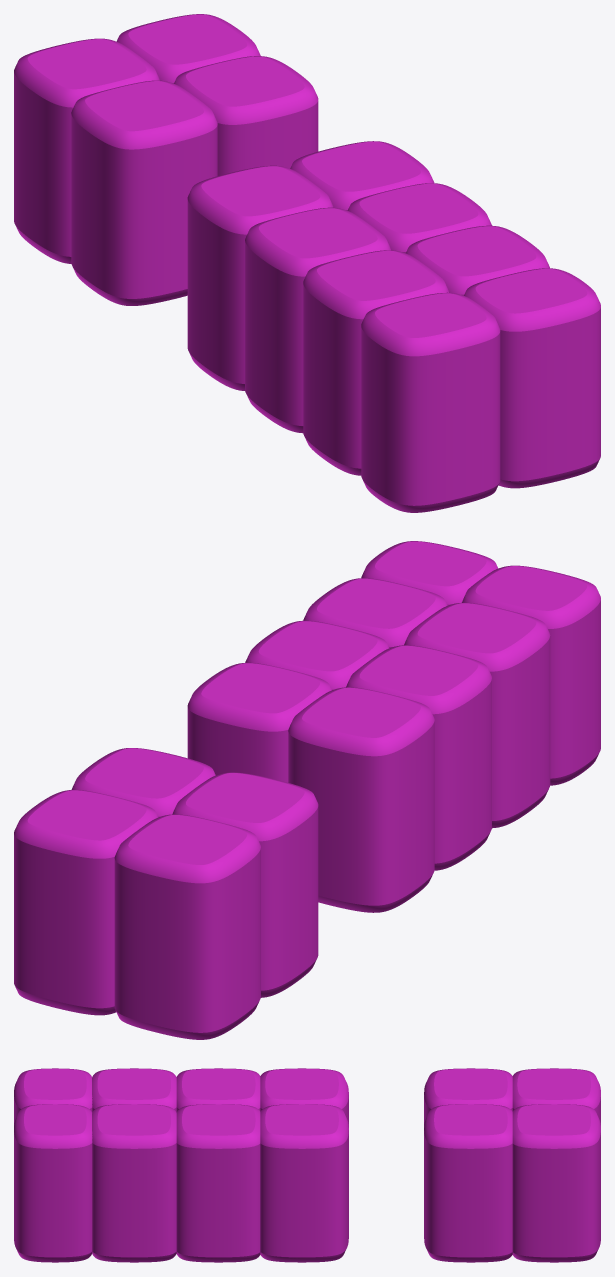
File: ExclamationMark.fbx
The picture shows the model from 3 angles, top to bottom: view 1: azimuth 30°, elevation 25°; view 2: azimuth 150°, elevation 25°; view 3: azimuth 270°, elevation 25°; orthographic projection. The views are drawn at different scales.
Parts seen in each view (by area): view 1: ExclamationMark; view 2: ExclamationMark; view 3: ExclamationMark.
Boxes of the visible parts, left/top/right/bottom form: ExclamationMark: left=14, top=14, right=600, bottom=512; ExclamationMark: left=14, top=541, right=600, bottom=1039; ExclamationMark: left=14, top=1068, right=600, bottom=1262.
Bounding box in the file's own units: 0.1784 × 0.14 × 0.5883.
